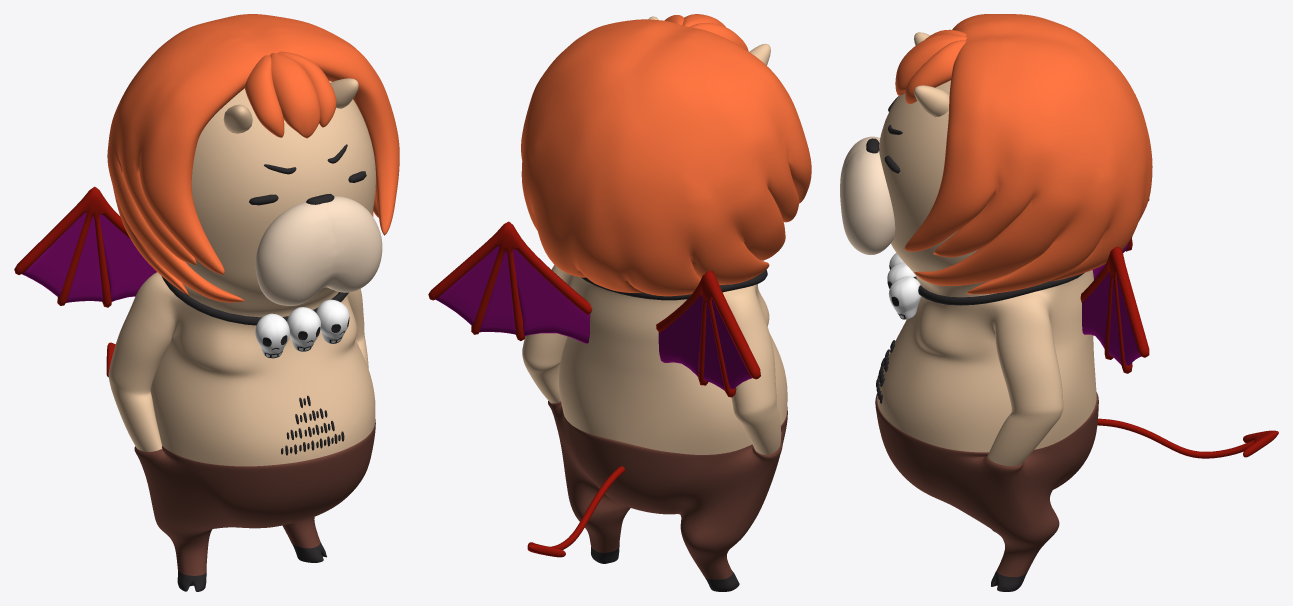
3 renders of one model, left to right at view 1: azimuth 30°, elevation 25°; view 2: azimuth 150°, elevation 25°; view 3: azimuth 270°, elevation 25°, orthographic. The views are drawn at different scales.
Parts seen in each view (by area): view 1: corpo, cabelo, fucinho, asas, caveira, chifre, colar, pelos barriga, olhos e rosto; view 2: cabelo, corpo, asas, cauda, colar; view 3: corpo, cabelo, asas, fucinho, cauda, caveira, colar, chifre.
Boxes of the visible parts, left/top/right/bottom form: corpo: left=108, top=80, right=375, bottom=591; cabelo: left=107, top=14, right=399, bottom=302; fucinho: left=255, top=196, right=382, bottom=305; asas: left=14, top=186, right=156, bottom=307; caveira: left=255, top=299, right=349, bottom=358; chifre: left=223, top=78, right=358, bottom=133; colar: left=161, top=276, right=348, bottom=325; pelos barriga: left=281, top=395, right=344, bottom=455; olhos e rosto: left=249, top=144, right=366, bottom=205; cabelo: left=521, top=14, right=811, bottom=296; corpo: left=522, top=265, right=787, bottom=591; asas: left=428, top=221, right=760, bottom=397; cauda: left=527, top=466, right=624, bottom=557; colar: left=581, top=269, right=767, bottom=300; corpo: left=875, top=80, right=1098, bottom=591; cabelo: left=895, top=14, right=1152, bottom=294; asas: left=1080, top=198, right=1149, bottom=373; fucinho: left=840, top=136, right=895, bottom=254; cauda: left=1097, top=418, right=1278, bottom=458; caveira: left=887, top=253, right=921, bottom=319; colar: left=913, top=272, right=1084, bottom=305; chifre: left=914, top=32, right=949, bottom=117.
Size of the model in its own units: 5.49 by 8.54 by 6.44.
